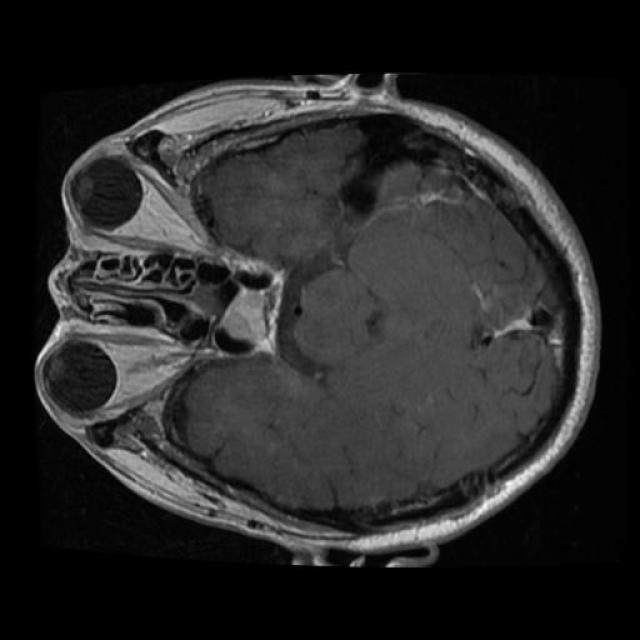Pituitary: (210, 270, 284, 355)
